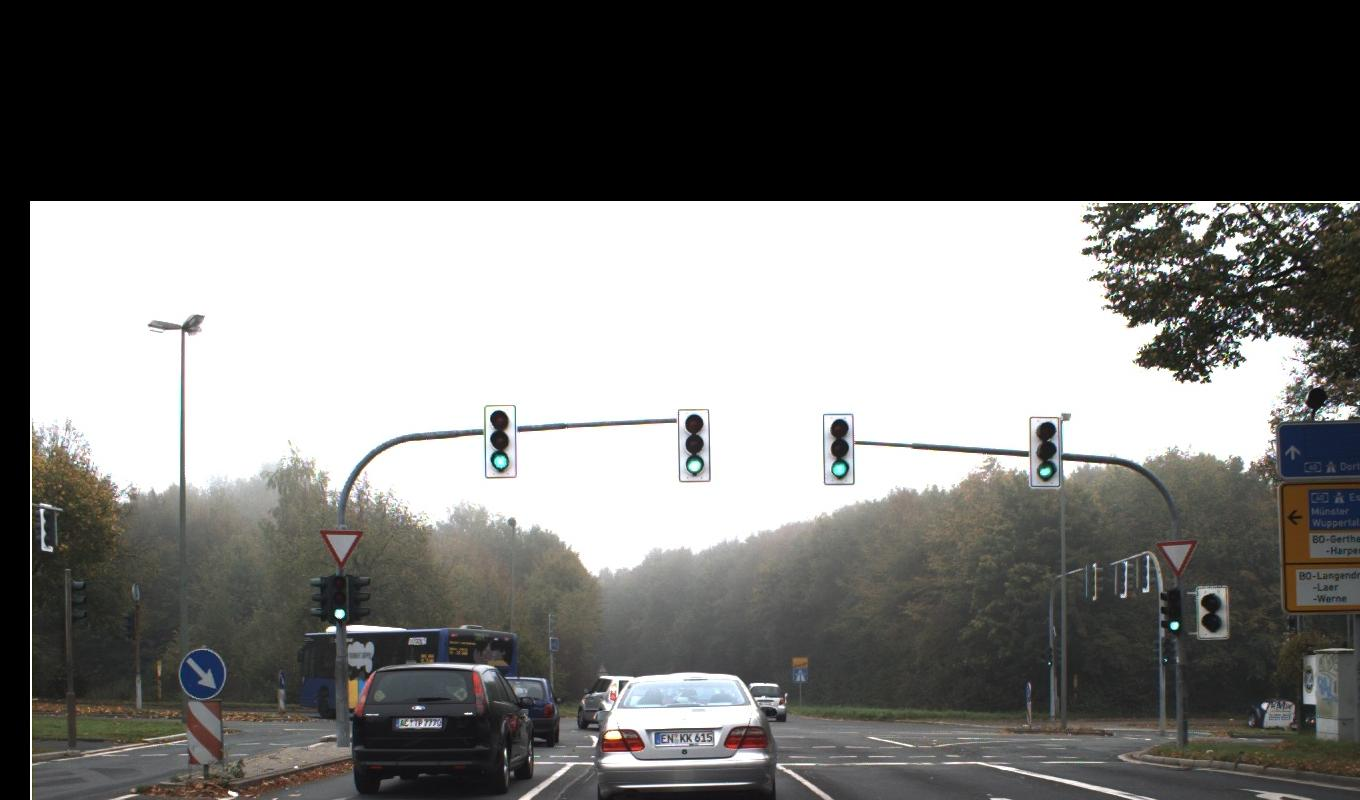give way: (178, 529, 1198, 700)
